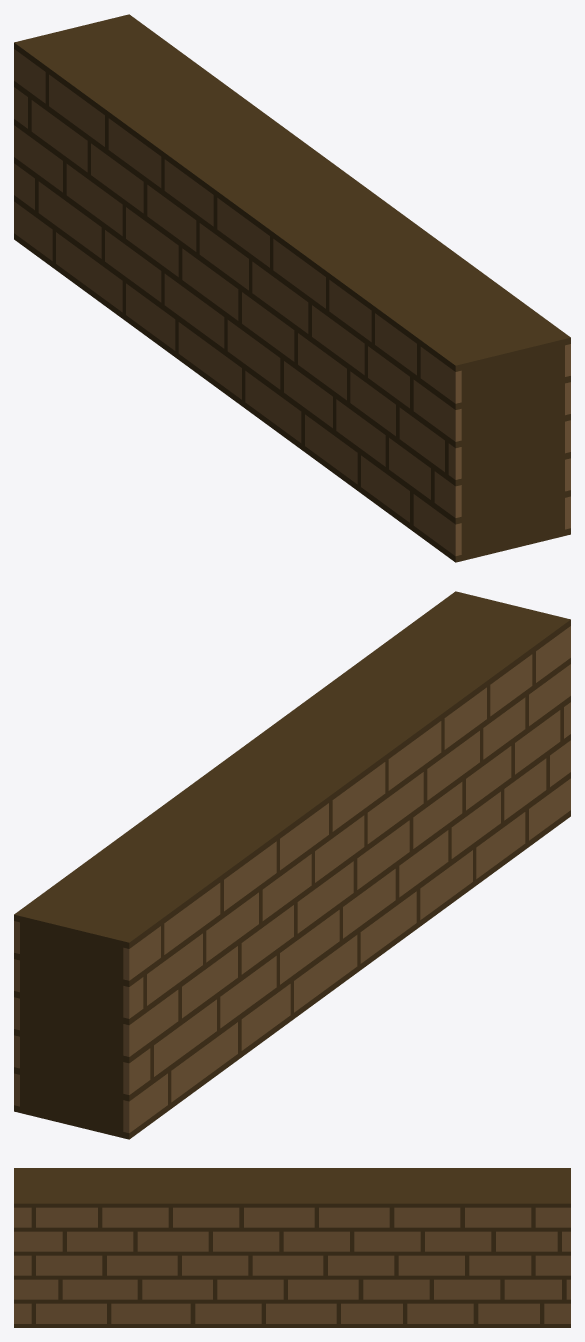
File: Roof_walls-1.obj
The picture shows the model from 3 angles, top to bottom: view 1: azimuth 30°, elevation 25°; view 2: azimuth 150°, elevation 25°; view 3: azimuth 270°, elevation 25°; orthographic projection. The views are drawn at different scales.
Bounding box in the file's own units: 1.9 × 3.1 × 12.6.
Materials: 1 (1 with a texture image).
